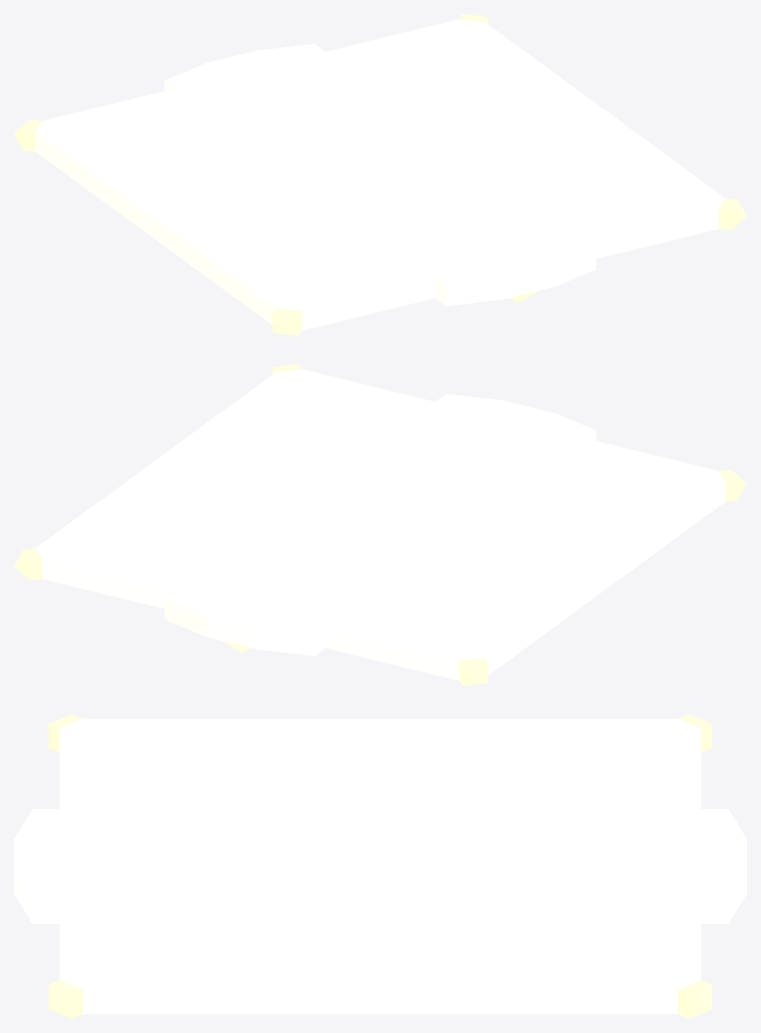
The model's file is Barroque_01.gltf.
The picture shows the model from 3 angles, top to bottom: view 1: azimuth 30°, elevation 25°; view 2: azimuth 150°, elevation 25°; view 3: azimuth 270°, elevation 25°; orthographic projection. The views are drawn at different scales.
Parts seen in each view (by area): view 1: PF_Barroque; view 2: PF_Barroque; view 3: PF_Barroque.
Part boxes in pixels (x1,y1,x2,y2): PF_Barroque: (14,14,746,335); PF_Barroque: (14,364,746,685); PF_Barroque: (14,714,746,1018).
Size of the model in its own units: 110 by 8.13 by 122.
